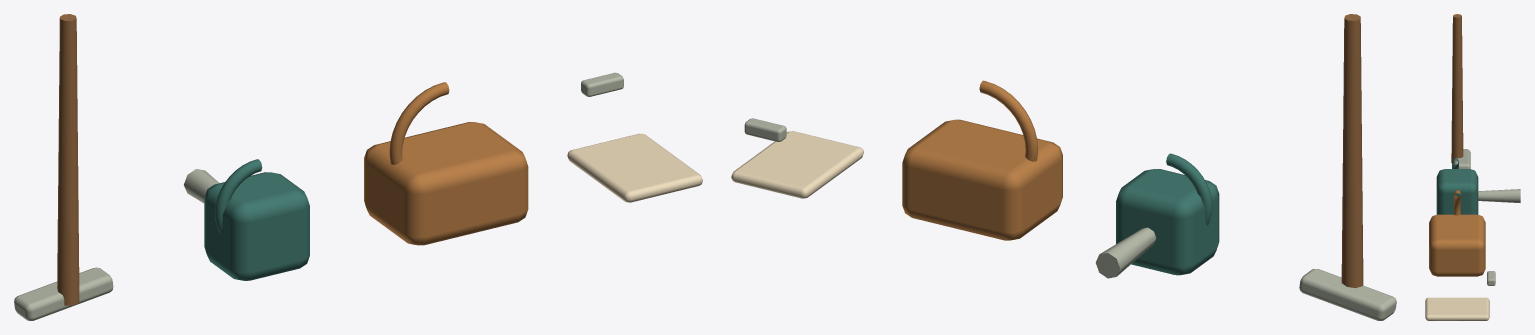
File: farm-tool-kit.glb
The picture shows the model from 3 angles, left to right: view 1: azimuth 30°, elevation 25°; view 2: azimuth 150°, elevation 25°; view 3: azimuth 270°, elevation 25°; orthographic projection. The views are drawn at different scales.
Visible parts, largest first — view 1: harvestBasket, wateringCanBody, tool.hoe, fieldJournalClipboard, hoeBlade, basketHandle, wateringCanHandle, clipboardClip, wateringCanSpout; view 2: harvestBasket, wateringCanBody, tool.hoe, fieldJournalClipboard, hoeBlade, wateringCanSpout, basketHandle, wateringCanHandle, clipboardClip; view 3: harvestBasket, wateringCanBody, tool.hoe, fieldJournalClipboard, wateringCanSpout, hoeBlade, basketHandle, clipboardClip.
Boxes of the visible parts, box(x1,y1,x2,y2) form: harvestBasket: box(364, 122, 528, 245); wateringCanBody: box(204, 172, 309, 280); tool.hoe: box(57, 14, 79, 305); fieldJournalClipboard: box(567, 133, 702, 202); hoeBlade: box(14, 267, 113, 320); basketHandle: box(389, 82, 449, 164); wateringCanHandle: box(215, 159, 262, 232); clipboardClip: box(581, 72, 623, 96); wateringCanSpout: box(184, 169, 219, 203); harvestBasket: box(902, 119, 1062, 240); wateringCanBody: box(1116, 169, 1219, 275); tool.hoe: box(1341, 14, 1363, 288); fieldJournalClipboard: box(731, 131, 863, 198); hoeBlade: box(1299, 269, 1396, 320); wateringCanSpout: box(1095, 227, 1156, 278); basketHandle: box(979, 80, 1037, 161); wateringCanHandle: box(1166, 153, 1212, 225); clipboardClip: box(744, 118, 786, 141); harvestBasket: box(1429, 214, 1485, 276); wateringCanBody: box(1436, 169, 1478, 214); tool.hoe: box(1451, 14, 1463, 163); fieldJournalClipboard: box(1425, 297, 1489, 320); wateringCanSpout: box(1478, 189, 1520, 202); hoeBlade: box(1453, 149, 1470, 168); basketHandle: box(1454, 190, 1460, 215); clipboardClip: box(1487, 271, 1495, 285).
Size of the model in its own units: 2.07 by 0.8941 by 0.505.
